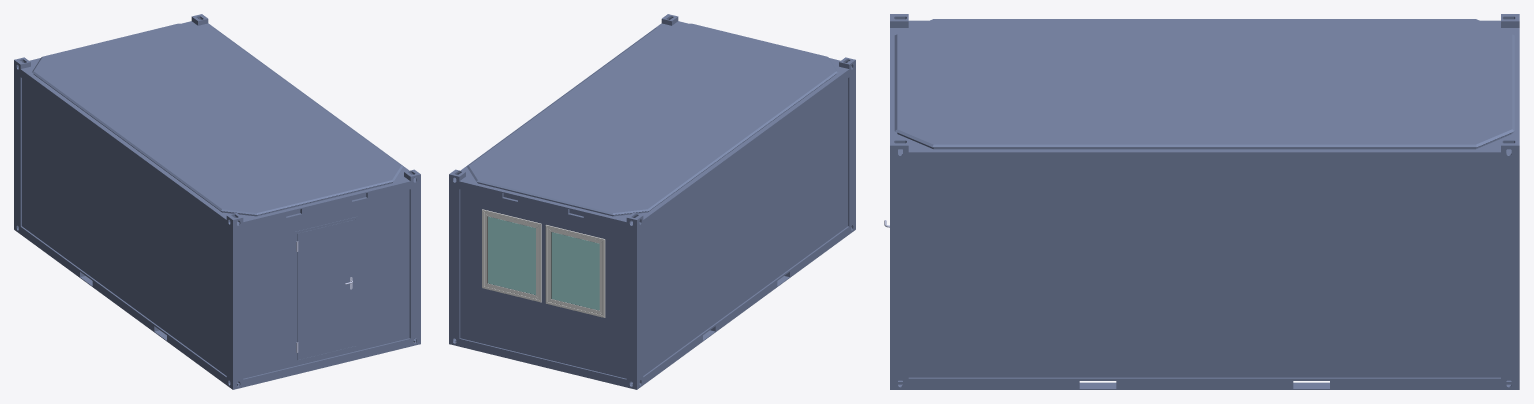
Rendered from Büro stirnseitig HC 2600 BC 3000.obj.
3 renders of one model, left to right at view 1: azimuth 30°, elevation 25°; view 2: azimuth 150°, elevation 25°; view 3: azimuth 270°, elevation 25°, orthographic. The views are drawn at different scales.
Visible parts, largest first — view 1: |Test_Bürocontainer~0|Root|Test-Büro2~0-1|color, |Test_Bürocontainer~0|Root|Cont-Tür~0-2|color-2; view 2: |Test_Bürocontainer~0|Root|Test-Büro2~0-1|color, |Test_Bürocontainer~0|Root|Cont-Fenster~0-3|color-4, |Test_Bürocontainer~0|Root|Cont-Fenster~0-1|color-4, |Test_Bürocontainer~0|Root|Cont-Fenster~0-3|color-5, |Test_Bürocontainer~0|Root|Cont-Fenster~0-1|color-5; view 3: |Test_Bürocontainer~0|Root|Test-Büro2~0-1|color.
Boxes of the visible parts, box(x1,y1,x2,y2) form: |Test_Bürocontainer~0|Root|Test-Büro2~0-1|color: box(14, 14, 420, 389); |Test_Bürocontainer~0|Root|Cont-Tür~0-2|color-2: box(295, 216, 357, 362); |Test_Bürocontainer~0|Root|Test-Büro2~0-1|color: box(449, 14, 855, 389); |Test_Bürocontainer~0|Root|Cont-Fenster~0-3|color-4: box(551, 232, 599, 310); |Test_Bürocontainer~0|Root|Cont-Fenster~0-1|color-4: box(488, 216, 535, 294); |Test_Bürocontainer~0|Root|Cont-Fenster~0-3|color-5: box(545, 225, 605, 317); |Test_Bürocontainer~0|Root|Cont-Fenster~0-1|color-5: box(482, 209, 541, 302); |Test_Bürocontainer~0|Root|Test-Büro2~0-1|color: box(890, 14, 1519, 389).
Size of the model in its own units: 3 by 2.59 by 6.11.
